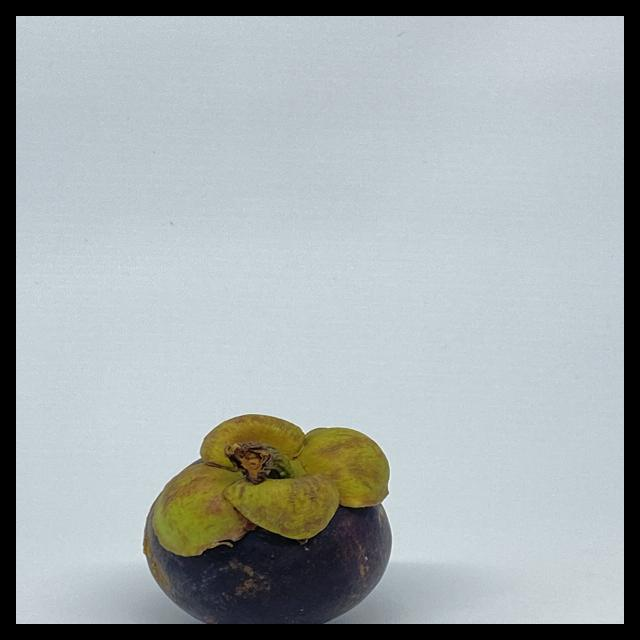mangosteen: (137, 398, 444, 624)
